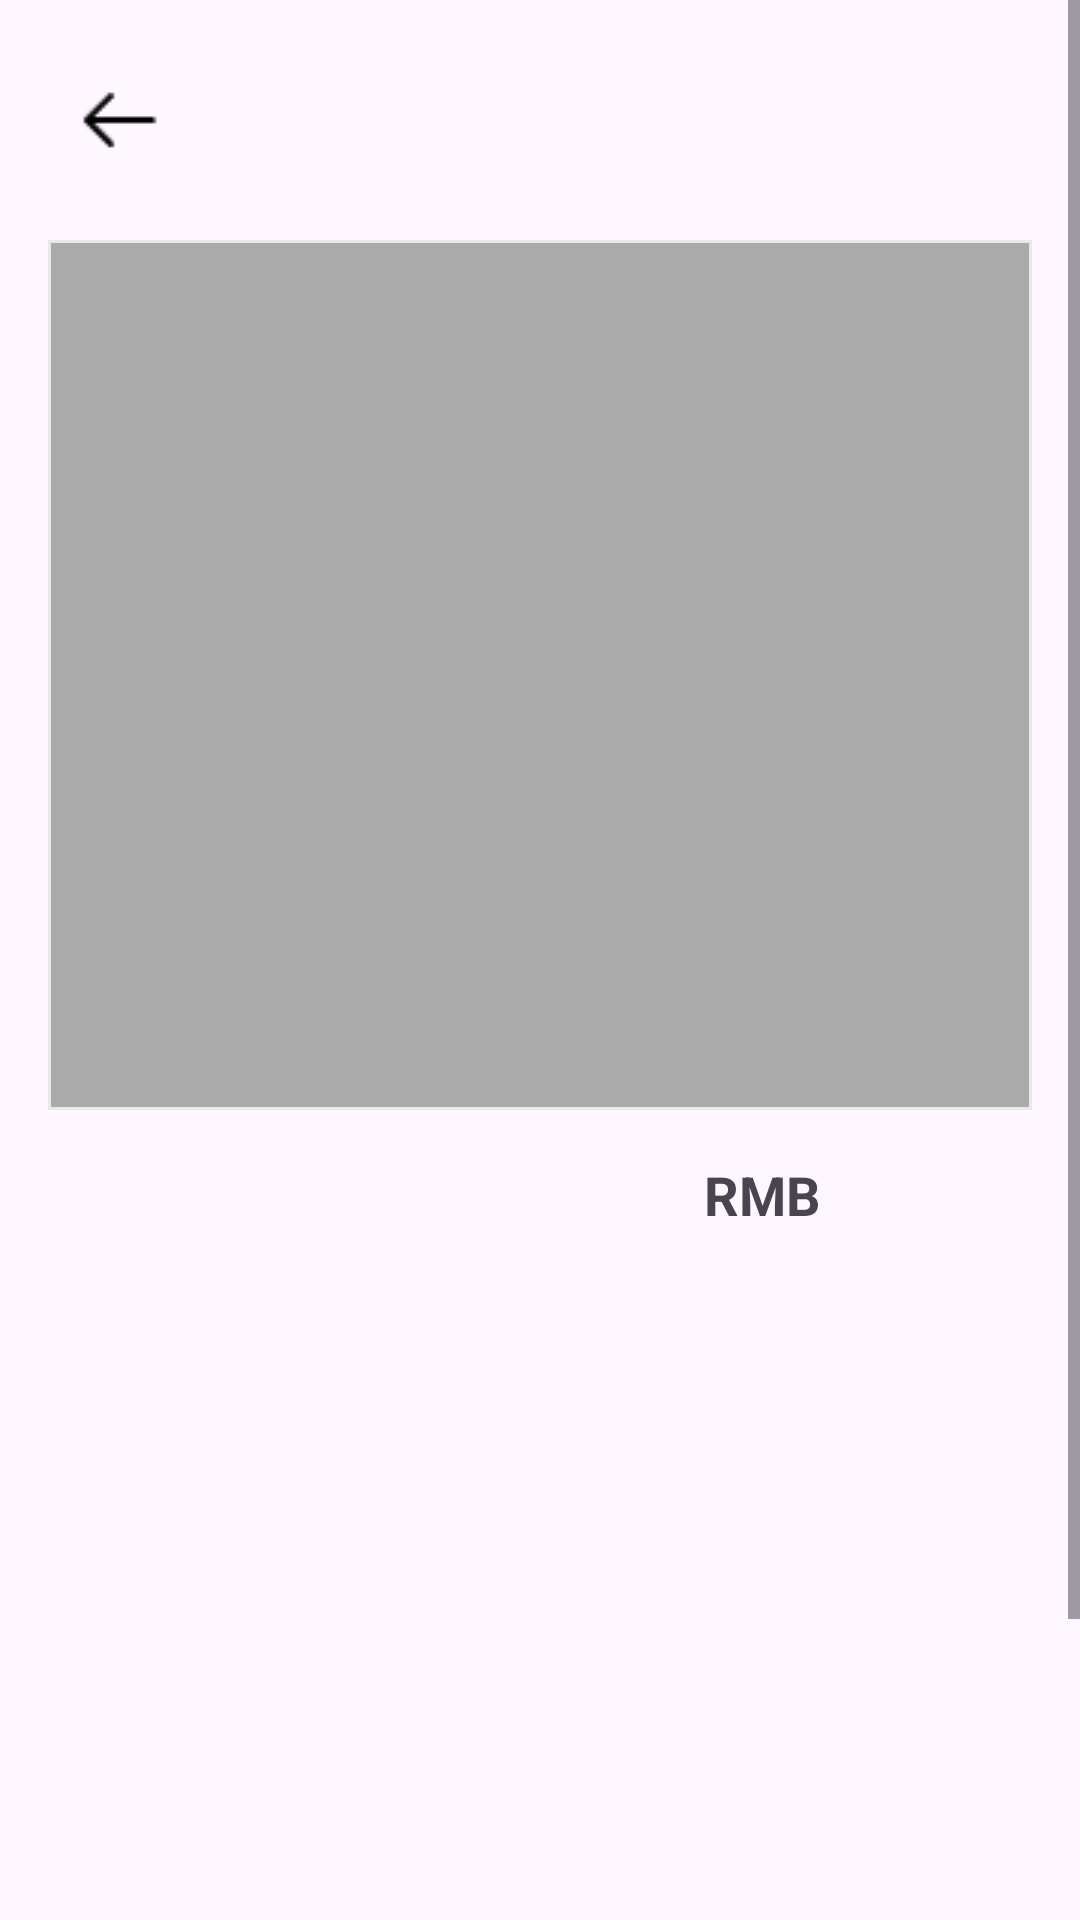

Locate icon controls on the screen. Image size 1080*1920, boxes as (x1, y1, x2, y2).
leftarrow: (83, 92, 157, 148)
